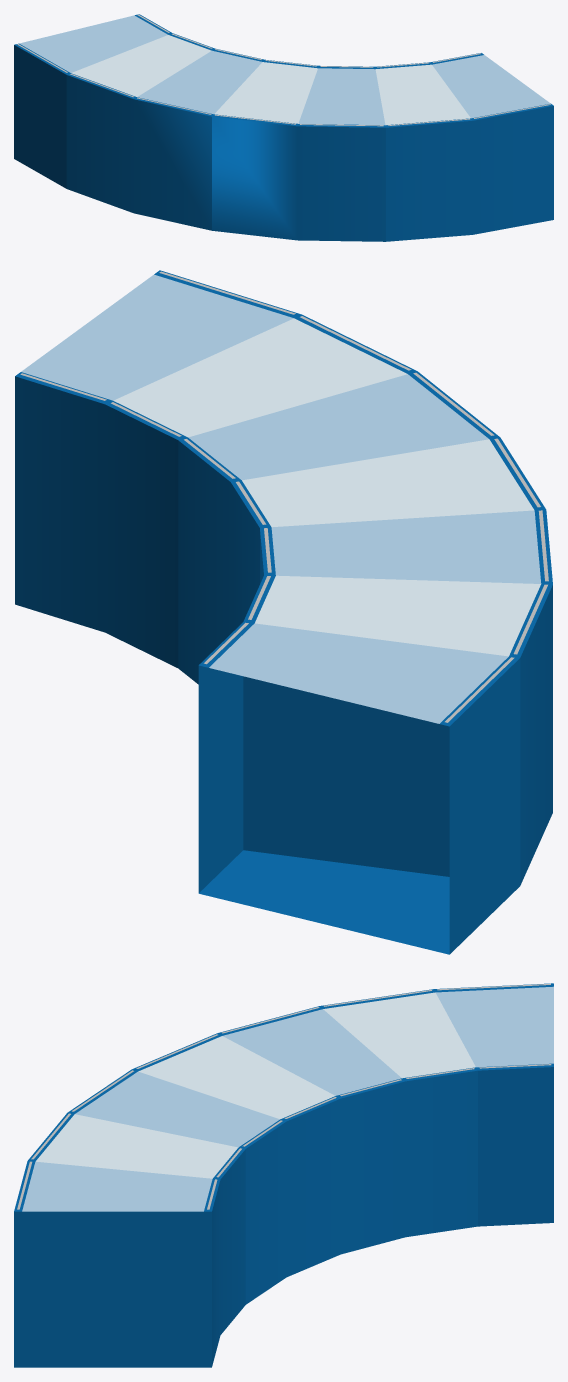
File: W_Road_3.FBX
3 renders of one model, top to bottom at view 1: azimuth 30°, elevation 25°; view 2: azimuth 150°, elevation 25°; view 3: azimuth 270°, elevation 25°, orthographic. The views are drawn at different scales.
Visible parts, largest first — view 1: Road_006, Glow_006; view 2: Road_006, Glow_006; view 3: Road_006, Glow_006.
Boxes of the visible parts, box(x1,y1,x2,y2) form: Road_006: box(14, 14, 553, 241); Glow_006: box(17, 14, 550, 126); Road_006: box(15, 270, 552, 954); Glow_006: box(20, 271, 548, 722); Road_006: box(14, 983, 553, 1367); Glow_006: box(17, 984, 551, 1209).
Bounding box in the file's own units: 1372 × 1372 × 439.
